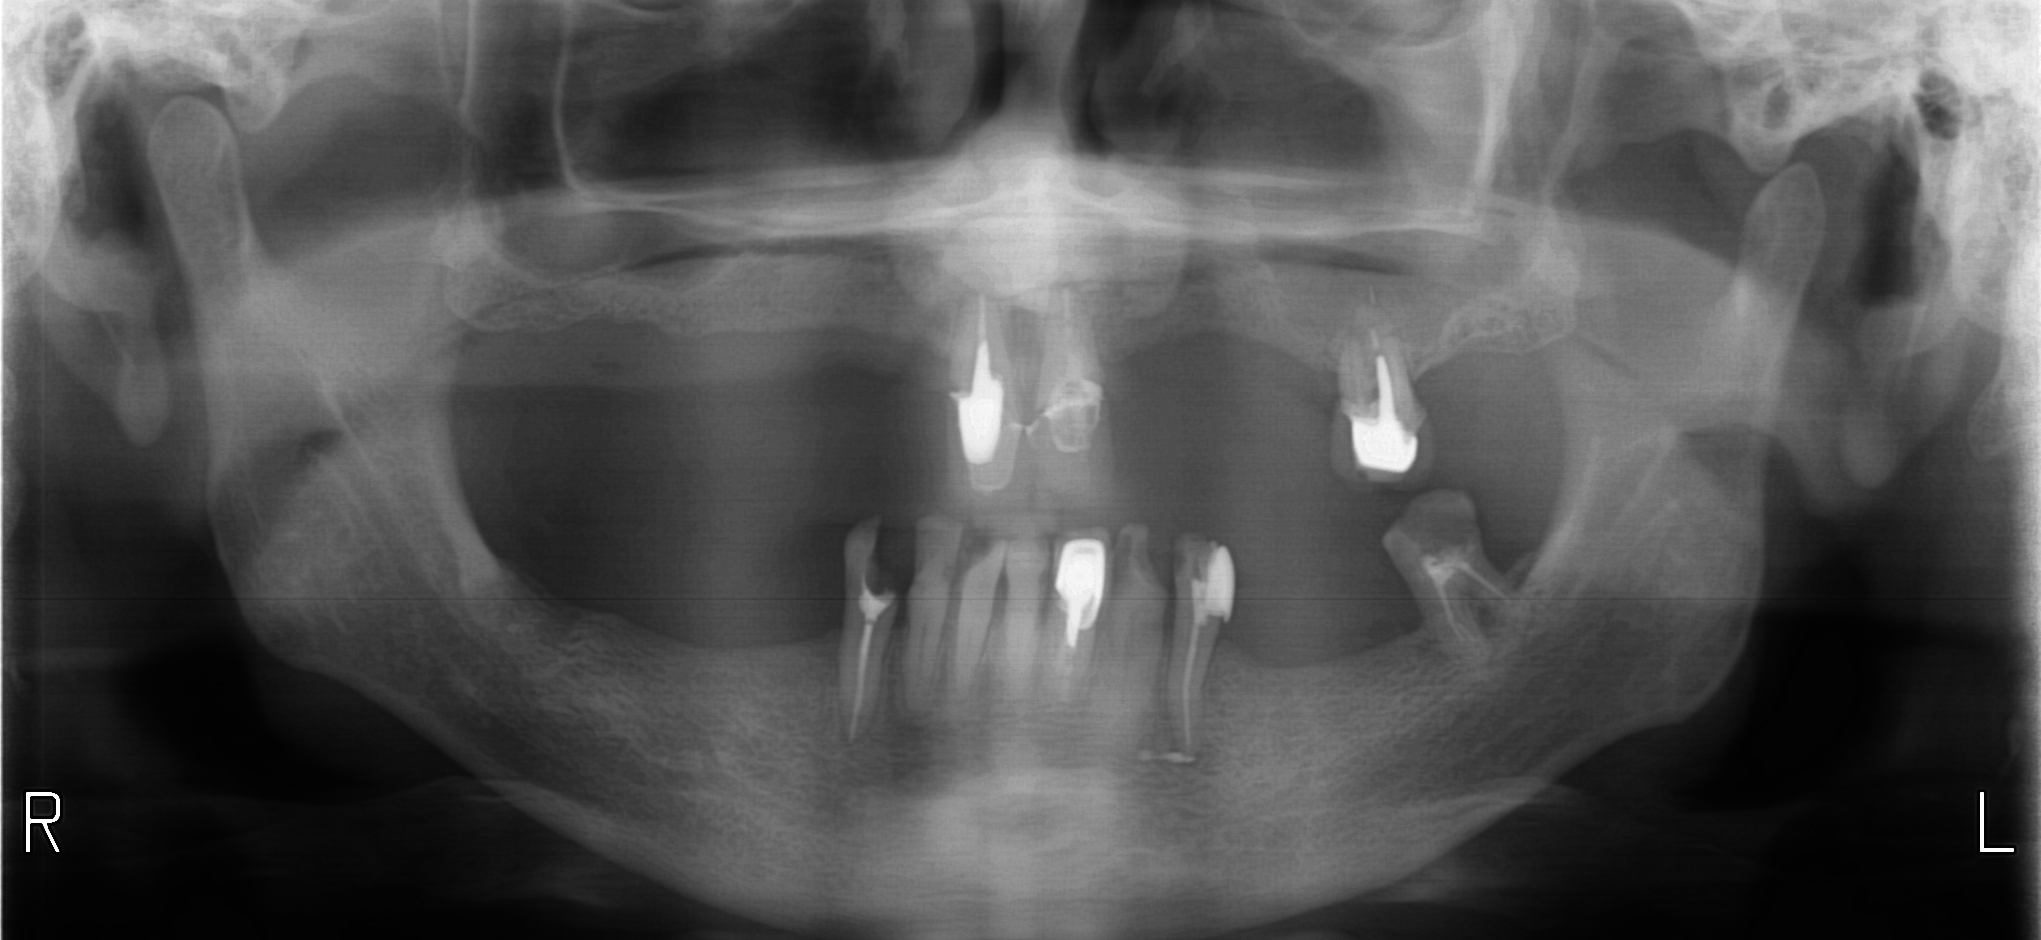cavity: (1402, 504, 1476, 549)
